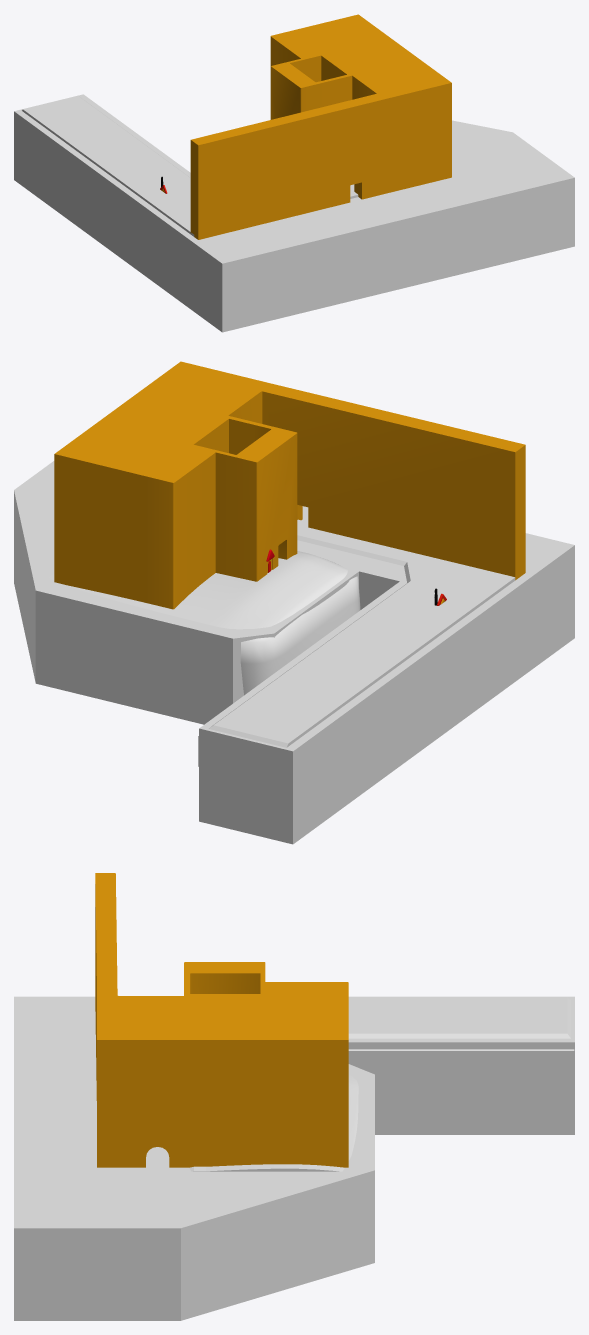
Rendered from end_dock.fbx.
The picture shows the model from 3 angles, top to bottom: view 1: azimuth 30°, elevation 25°; view 2: azimuth 150°, elevation 25°; view 3: azimuth 270°, elevation 25°; orthographic projection. The views are drawn at different scales.
Visible parts, largest first — view 1: dock_bounds, endodck_wlal, enddock; view 2: endodck_wlal, dock_bounds, enddock, enddock_land; view 3: dock_bounds, endodck_wlal, enddock, enddock_land.
Part boxes in pixels (x1,y1,x2,y2): dock_bounds: (14,94,574,332); endodck_wlal: (190,14,451,239); enddock: (22,96,358,236); endodck_wlal: (54,361,525,609); dock_bounds: (14,461,574,844); enddock: (198,519,515,766); enddock_land: (49,551,360,695); dock_bounds: (14,996,574,1320); endodck_wlal: (95,873,348,1167); enddock: (348,997,574,1081); enddock_land: (189,1075,358,1171).
Size of the model in its own units: 24.66 by 10.97 by 25.24.
